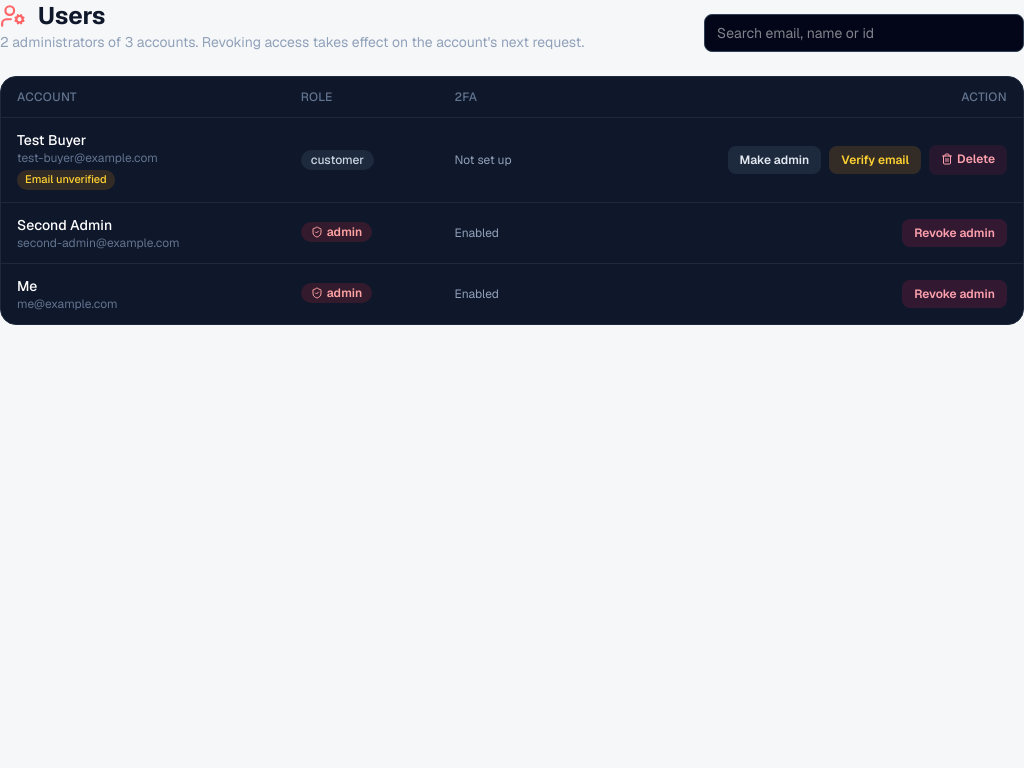
Test: AdminUsersPage: delete account › says so when the typed address is wrong
Click the button "Delete" at (968, 160), box [929,145,1007,175]
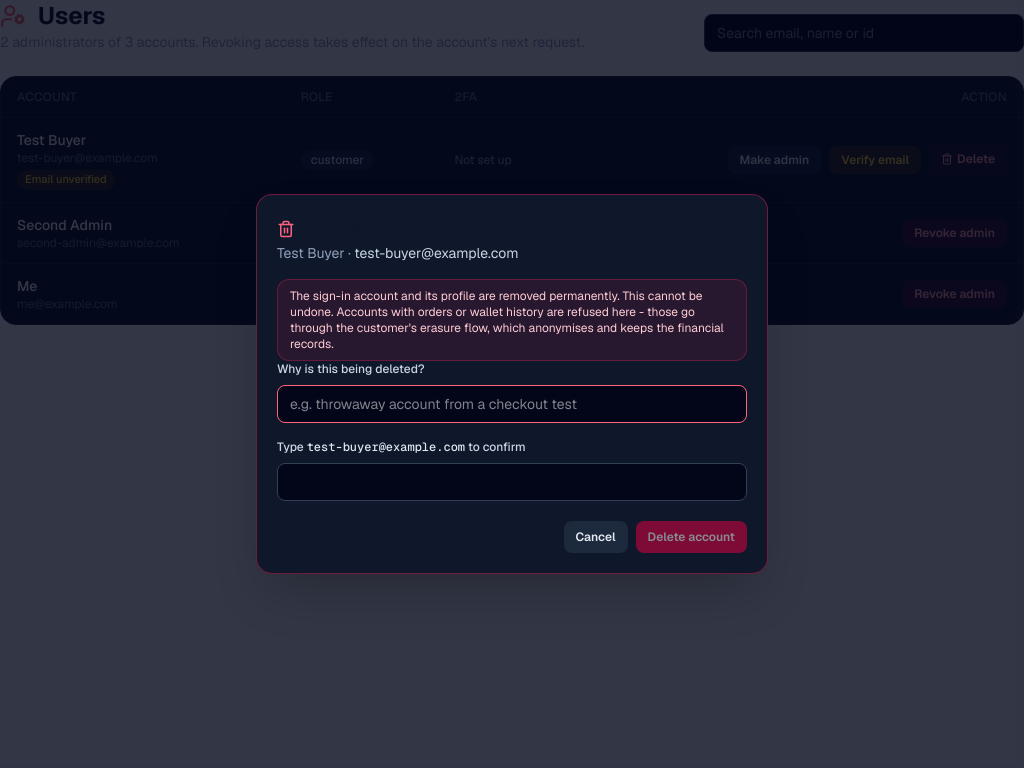
Type "throwaway checkout test" into the field labelled "Why is this being deleted?" at (512, 404), box [277,385,747,423]
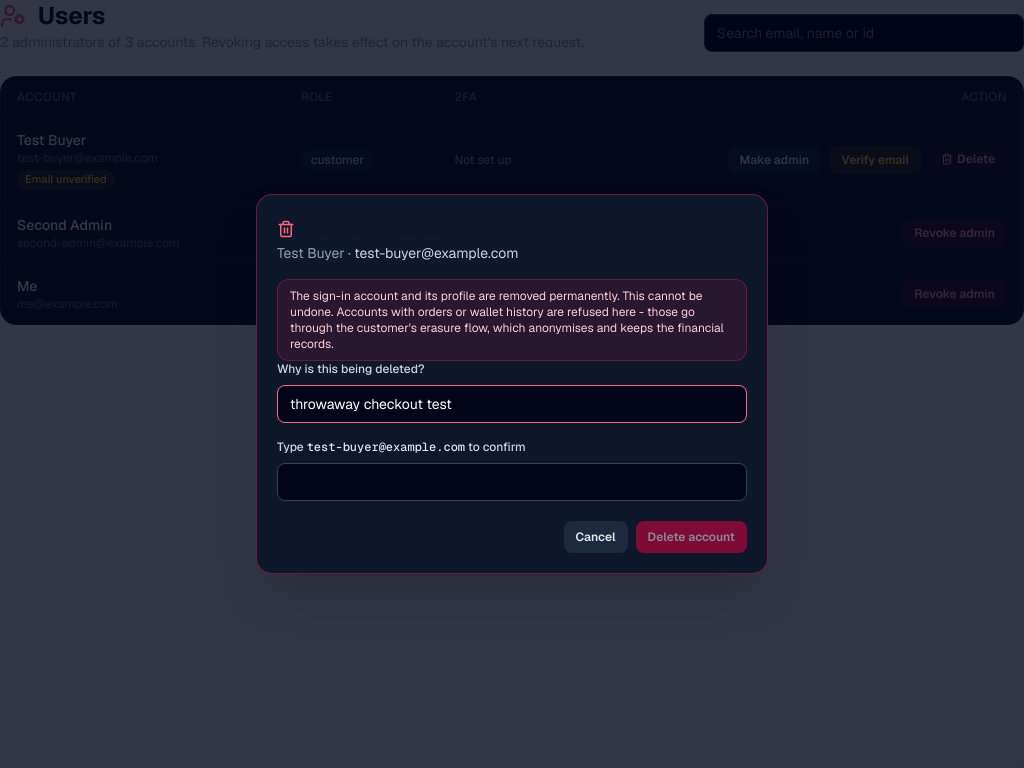
Type "test-buyer@example.co" into the field labelled "Type test-buyer@example.com to confirm" at (512, 482), box [277,463,747,501]
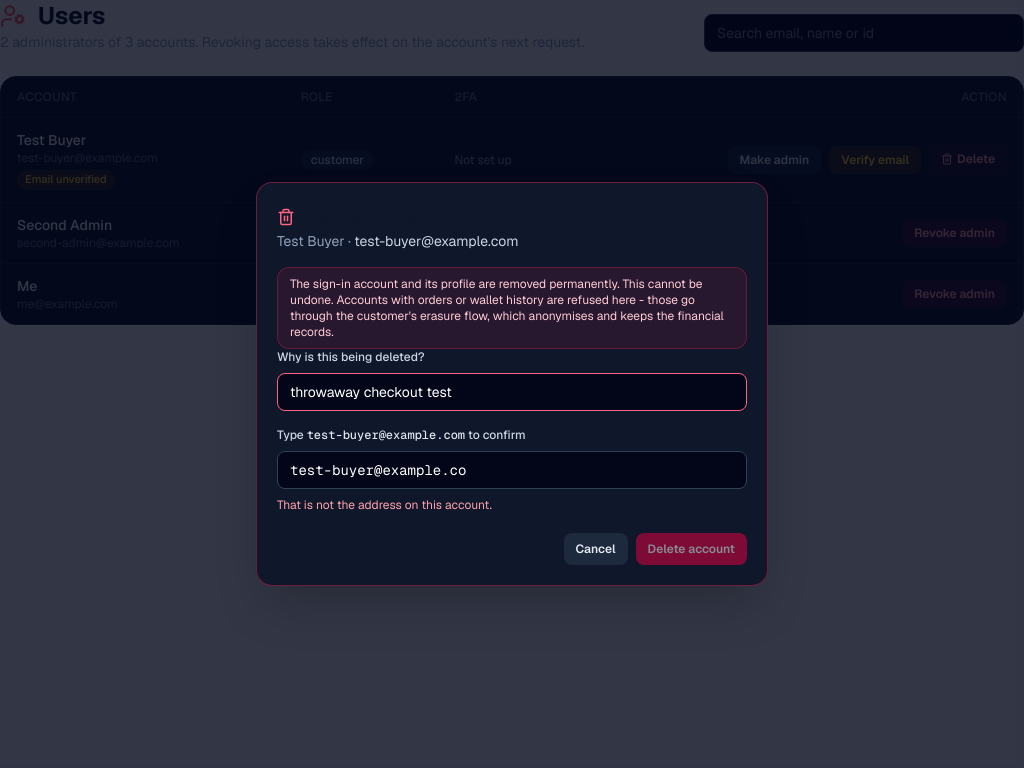
Now the button "Delete account" is disabled, box [636,533,747,565]
Now the text "That is not the address on this account." is shown, box [277,497,492,513]
